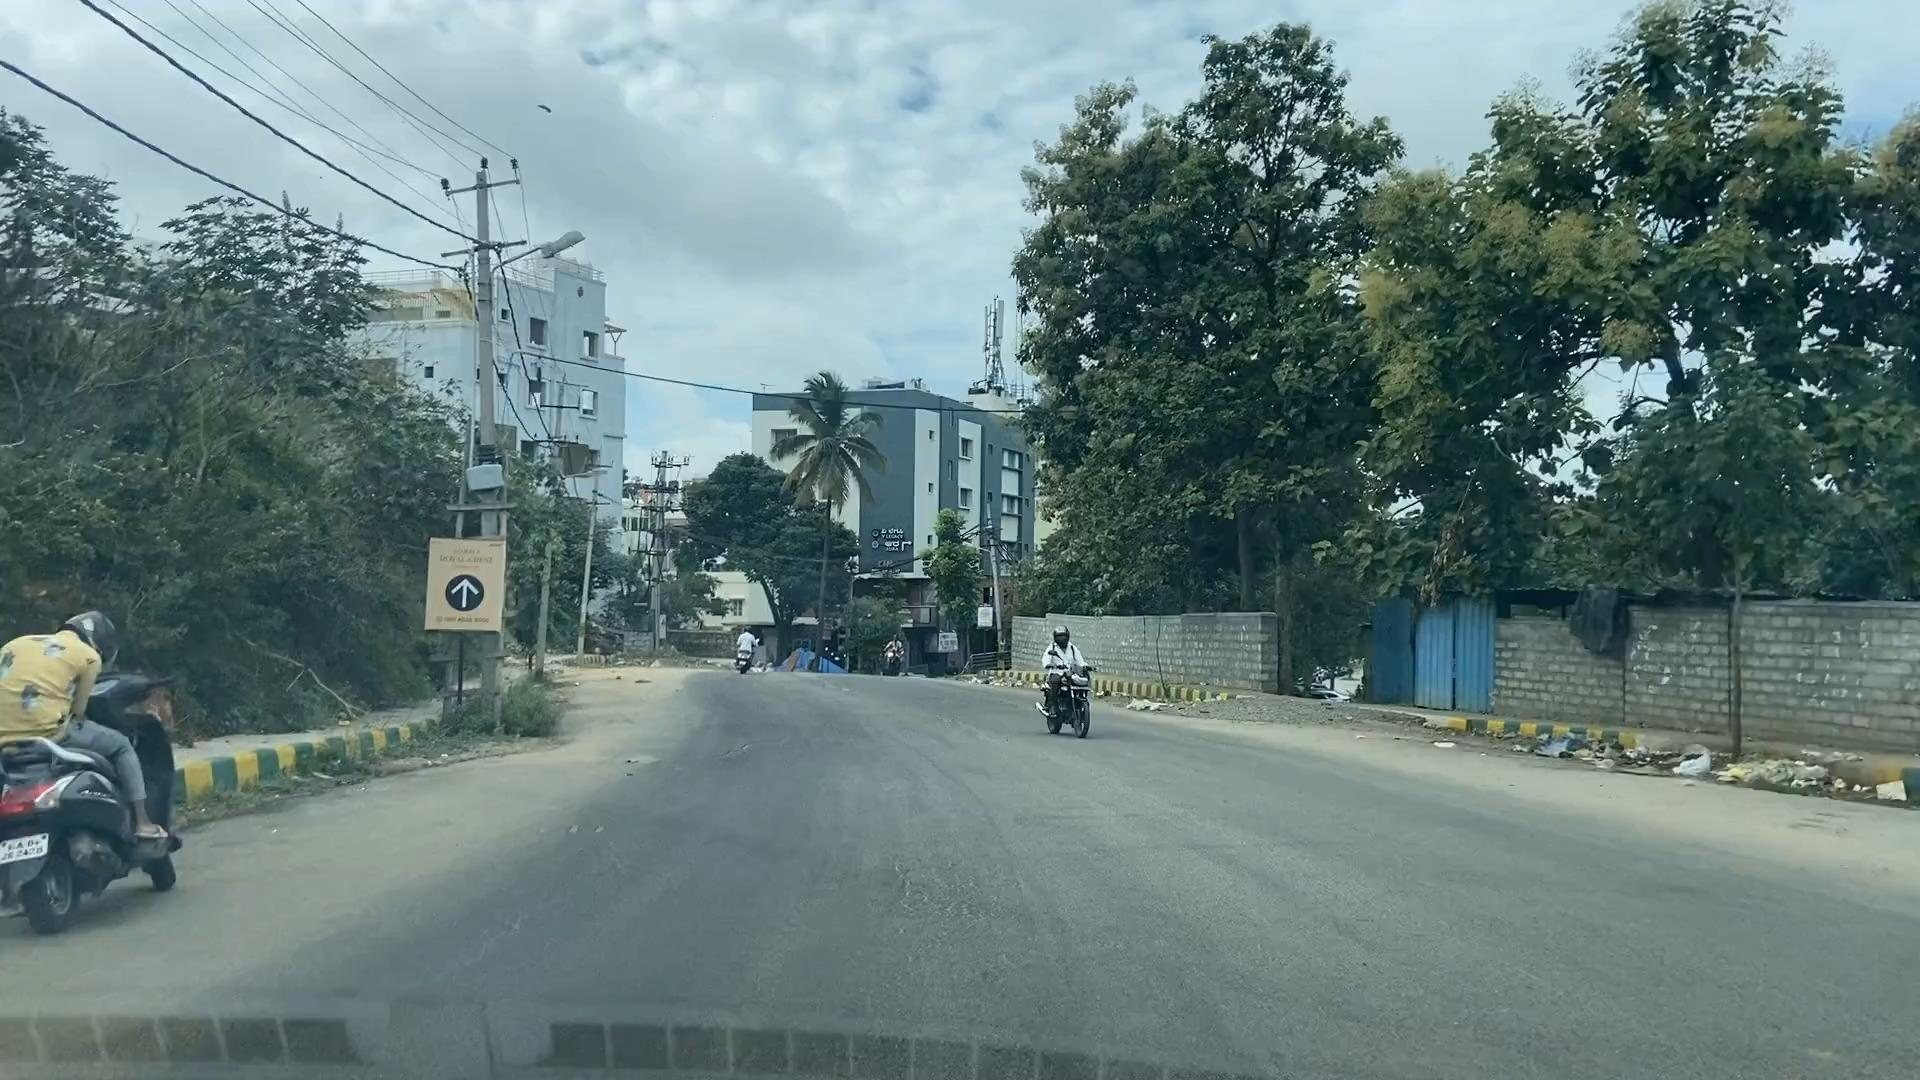RoadDamages: (487, 789, 665, 893)
